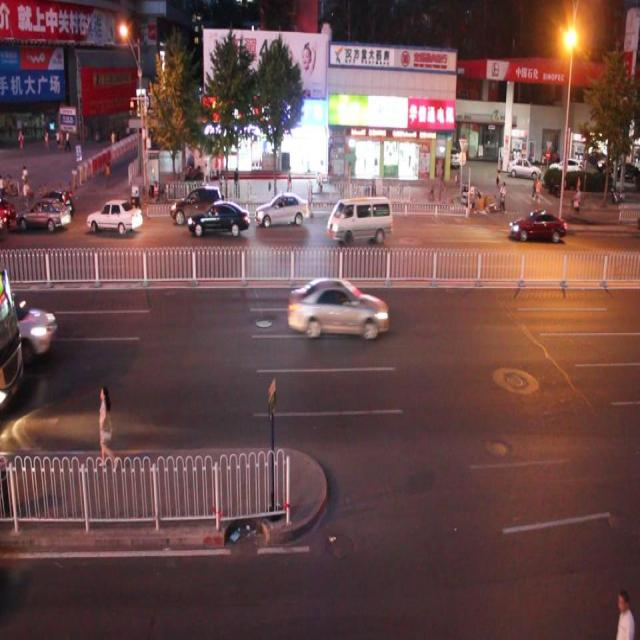car: (286, 272, 388, 338), (187, 198, 249, 238), (506, 207, 567, 245), (16, 193, 70, 235), (170, 185, 224, 227), (256, 192, 310, 230), (86, 199, 144, 234), (35, 186, 75, 218)
truck: (327, 195, 392, 244)
